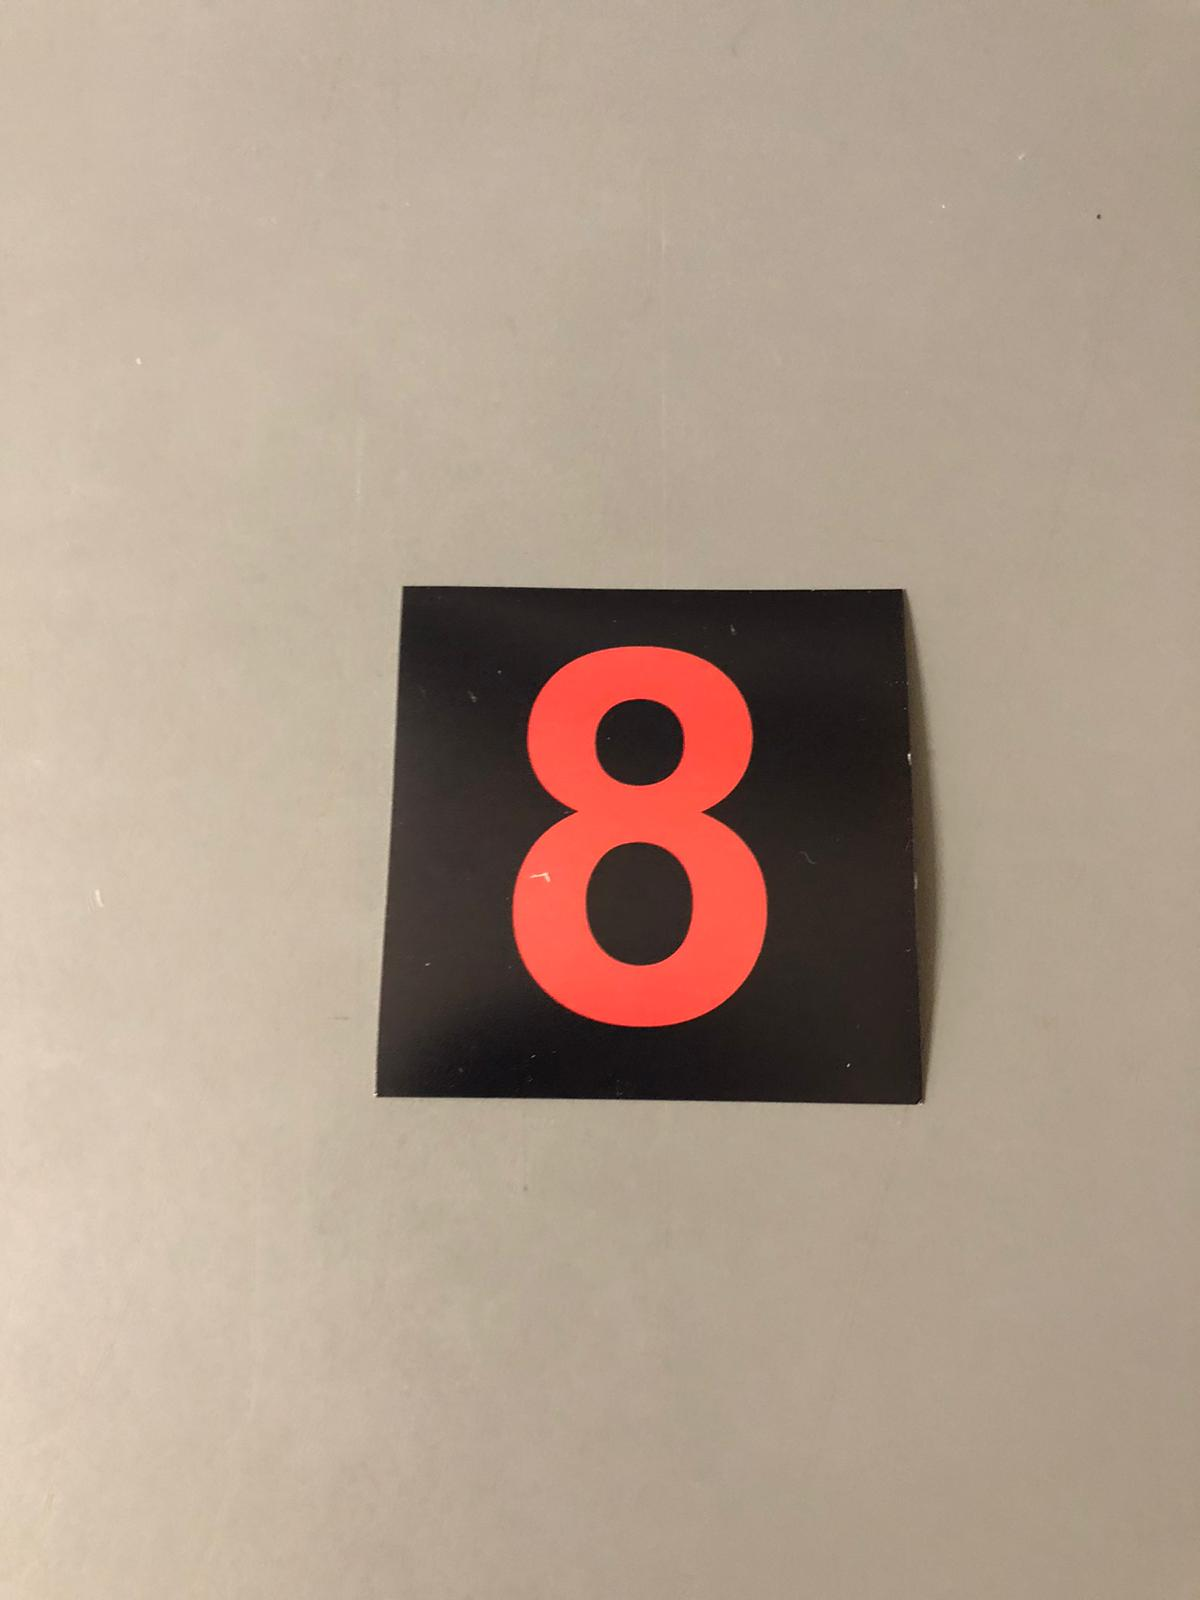Number 8: (410, 612, 855, 1077)
